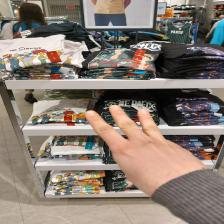five: (78, 103, 209, 190)
